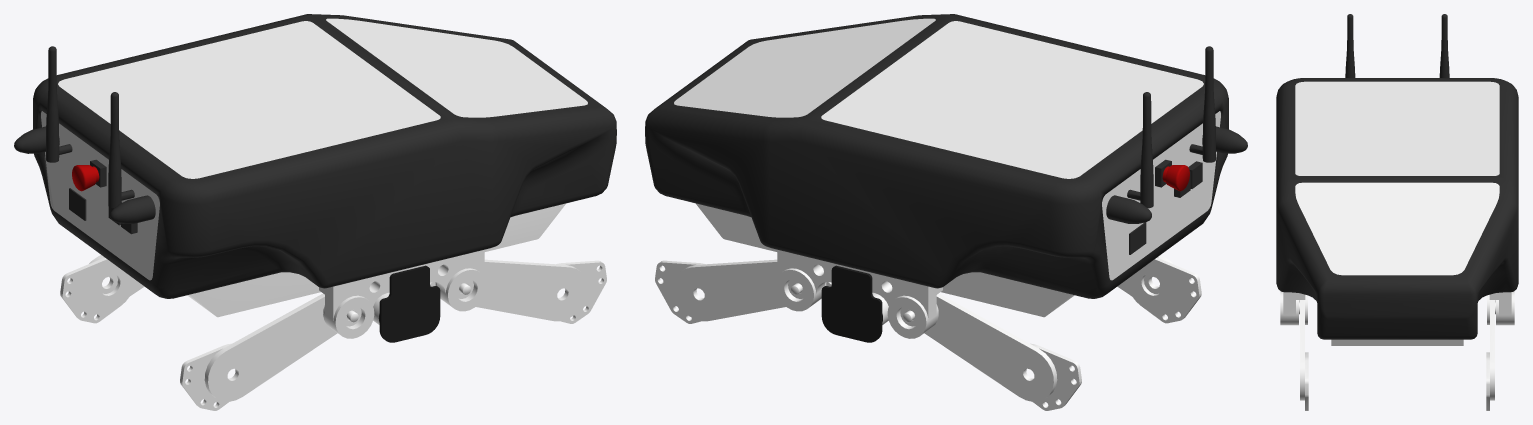
The model's file is summit_xl_chassis.dae.
The picture shows the model from 3 angles, left to right: view 1: azimuth 30°, elevation 25°; view 2: azimuth 150°, elevation 25°; view 3: azimuth 270°, elevation 25°; orthographic projection. The views are drawn at different scales.
Visible parts, largest first — view 1: summit_xl_chassis, summit_xl_balancines, summit_xl_cover, emergency_stop; view 2: summit_xl_chassis, summit_xl_balancines, summit_xl_cover, emergency_stop; view 3: summit_xl_chassis, summit_xl_balancines, summit_xl_cover.
Part boxes in pixels (x1=…): summit_xl_chassis: x1=33, y1=14, x2=616, y2=298; summit_xl_balancines: x1=14, y1=46, x2=606, y2=410; summit_xl_cover: x1=187, y1=203, x2=565, y2=338; emergency_stop: x1=72, y1=165, x2=99, y2=191; summit_xl_chassis: x1=645, y1=14, x2=1228, y2=298; summit_xl_balancines: x1=655, y1=46, x2=1247, y2=410; summit_xl_cover: x1=696, y1=203, x2=1074, y2=338; emergency_stop: x1=1162, y1=165, x2=1189, y2=191; summit_xl_chassis: x1=1276, y1=78, x2=1518, y2=339; summit_xl_balancines: x1=1299, y1=14, x2=1495, y2=410; summit_xl_cover: x1=1280, y1=291, x2=1514, y2=345.
Size of the model in its own units: 0.7004 by 0.385 by 0.4166.
1 material, 1 textured.
